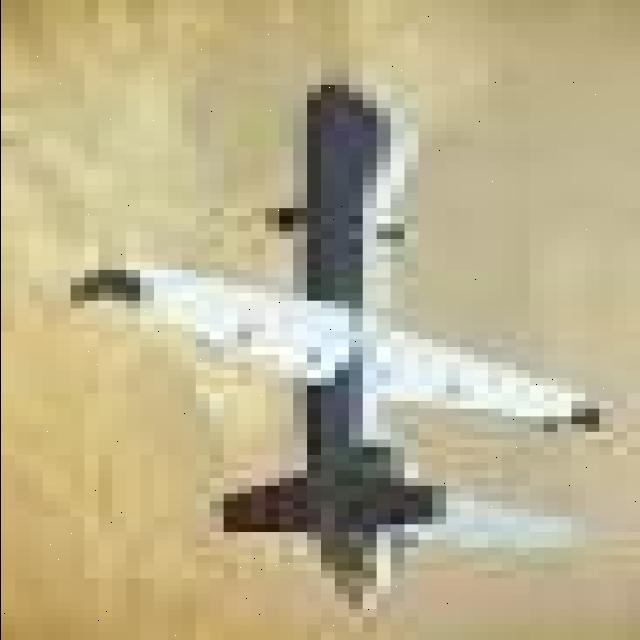MQ9: (43, 59, 638, 606)
